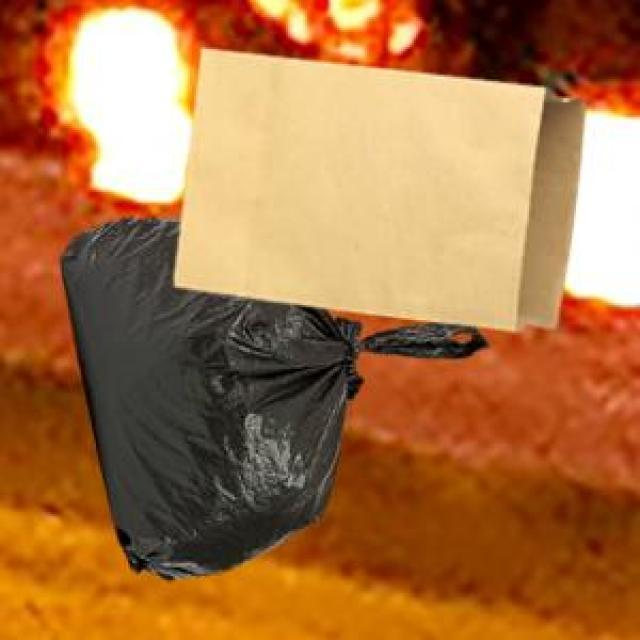miscellaneous trash: (58, 213, 482, 576)
paper: (171, 46, 580, 326)
